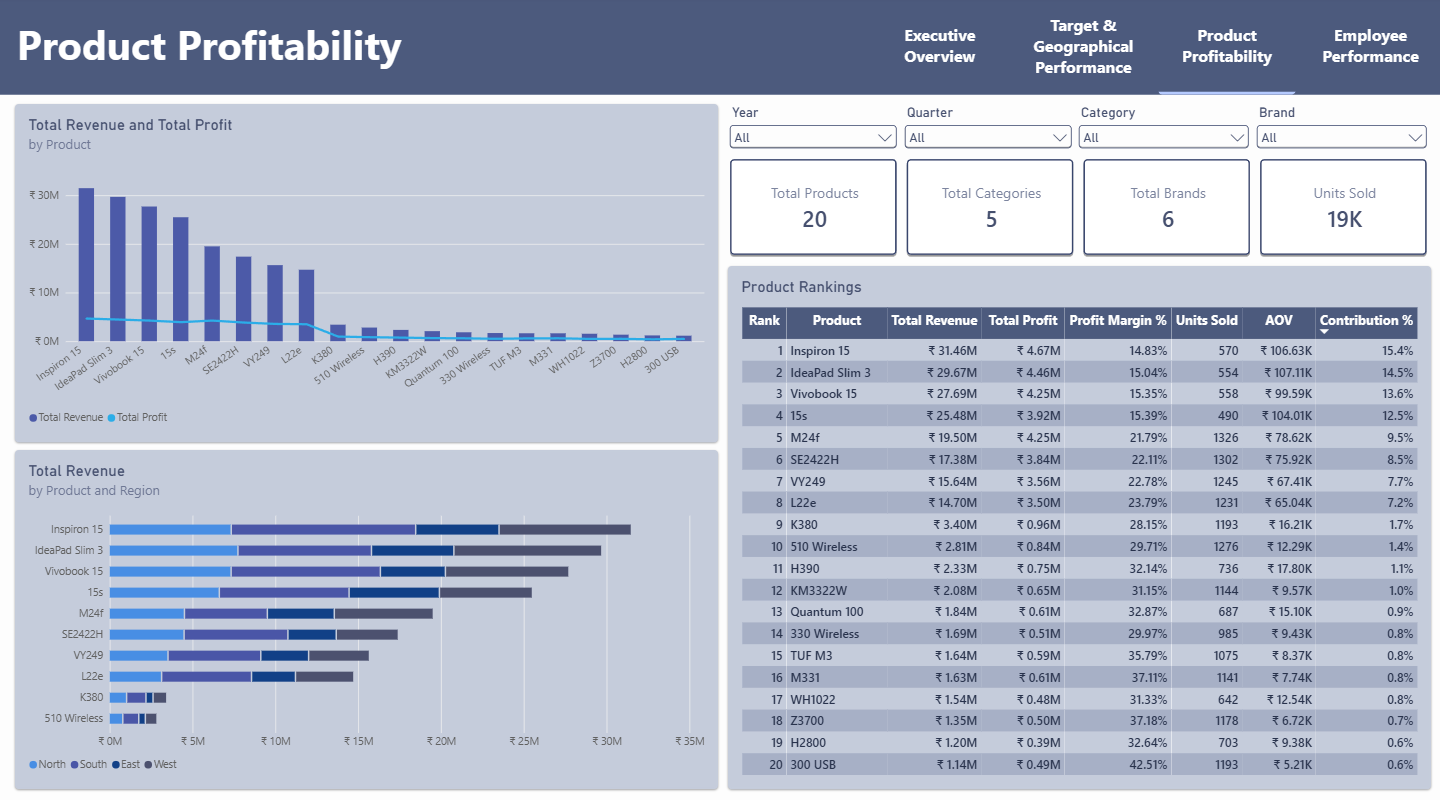

Layout of this report page (visuals, bound fields, positions):
{"tool":"powerbi","page":{"name":"Product Profitability","canvas":[1920,1080],"ordinal":2},"visuals":[{"type":"lineClusteredColumnComboChart","title":"Total Revenue and Total Profit","fields":{"Category":["tblDimProduct.Product"],"Y":["tblFactSales.TotalNet"],"Y2":["tblFactSales.TotalProfit"]},"box":[23.9,142.3,935,449.6],"z":0},{"type":"barChart","title":"Total Revenue","fields":{"Category":["tblDimProduct.Product"],"Series":["tblDimRegion.Region"],"Y":["tblFactSales.TotalNet"]},"box":[23.9,602.5,935,450.9],"z":1000},{"type":"tableEx","title":"Product Rankings","fields":{"Values":["tblDimProduct.ProductContributionRank","tblDimProduct.Product","tblFactSales.TotalNet","tblFactSales.TotalProfit","tblFactSales.Margin%","tblFactSales.UnitsSold","tblFactSales.AOV","tblDimProduct.ProductRevenueContribution%"]},"box":[972.3,357.8,935,695.6],"z":2000},{"type":"slicer","fields":{"Values":["tblDimDate.Year"]},"box":[970.2,143,232,61.3],"z":3000},{"type":"slicer","fields":{"Values":["tblDimDate.Quarter"]},"box":[1202.2,143,232,61.3],"z":4000},{"type":"slicer","fields":{"Values":["tblDimProduct.Category"]},"box":[1434.2,143,236.4,61.3],"z":5000},{"type":"slicer","fields":{"Values":["tblDimProduct.Brand"]},"box":[1670.5,143,236.4,61.3],"z":6000},{"type":"cardVisual","fields":{"Data":["tblDimProduct.Total Products","tblDimProduct.Total Categories","tblDimProduct.Total Brands","tblFactSales.UnitsSold"]},"box":[972.3,212.8,935,133],"z":7000},{"type":"shape","box":[0,0,1920.6,130.3],"z":8000},{"type":"pageNavigator","box":[1161.9,0,758.1,130.3],"z":9000},{"type":"textbox","box":[26.6,25.3,732.9,117],"z":10000}]}

Visuals, with their boxes in screenshot pixels (x1, y1, x2, y2), scaled from the page's 1920x1080 canvas onto the 1440x800 screenshot:
"Total Revenue and Total Profit" lineClusteredColumnComboChart: l=18, t=105, r=719, b=438
"Total Revenue" barChart: l=18, t=446, r=719, b=780
"Product Rankings" tableEx: l=729, t=265, r=1430, b=780
slicer - tblDimDate.Year: l=728, t=106, r=902, b=151
slicer - tblDimDate.Quarter: l=902, t=106, r=1076, b=151
slicer - tblDimProduct.Category: l=1076, t=106, r=1253, b=151
slicer - tblDimProduct.Brand: l=1253, t=106, r=1430, b=151
cardVisual - tblDimProduct.Total Products x tblDimProduct.Total Categories: l=729, t=158, r=1430, b=256
shape: l=0, t=0, r=1439, b=97
pageNavigator: l=871, t=0, r=1439, b=97
textbox: l=20, t=19, r=570, b=105
